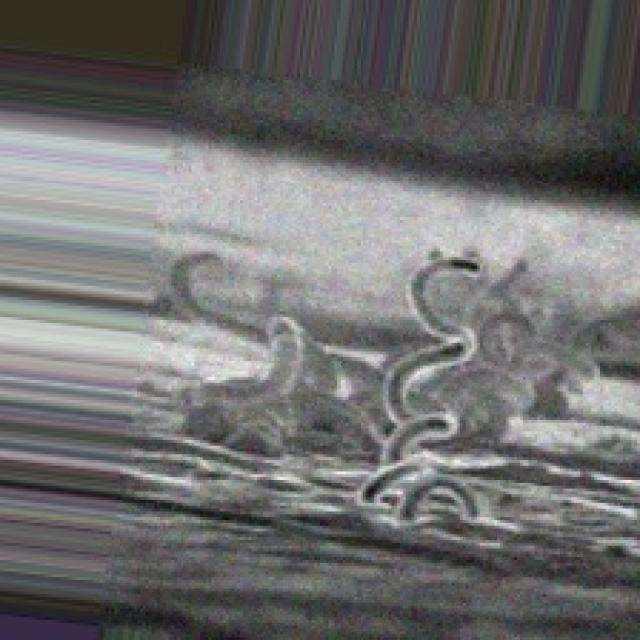Spiral_bacteria: (97, 240, 637, 637)
